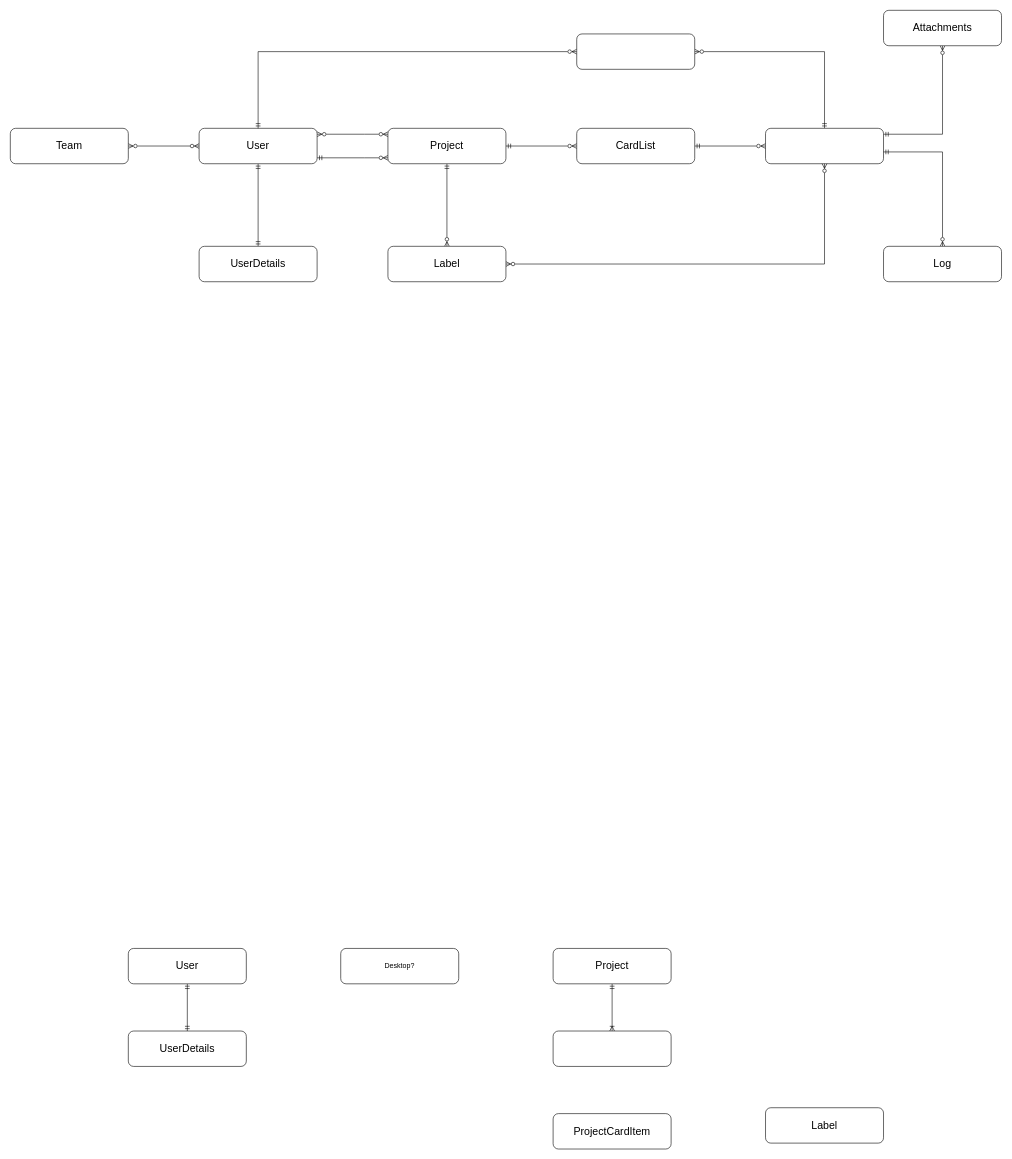
The diagram is 1012 pixels wide and 1159 high, and some of its shapes have lost their labels. The centre of each missing label's shape, as x and y in pixels:
Card: point 824,146
Comments: point 635,51
ProjectCard: point 612,1048
